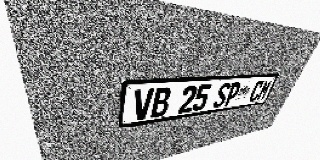2: (178, 85, 199, 114)
5: (192, 84, 212, 111)
B: (150, 87, 172, 118)
C: (247, 80, 265, 102)
M: (256, 80, 273, 101)
P: (223, 82, 242, 106)
S: (212, 83, 232, 108)
V: (132, 88, 154, 121)
